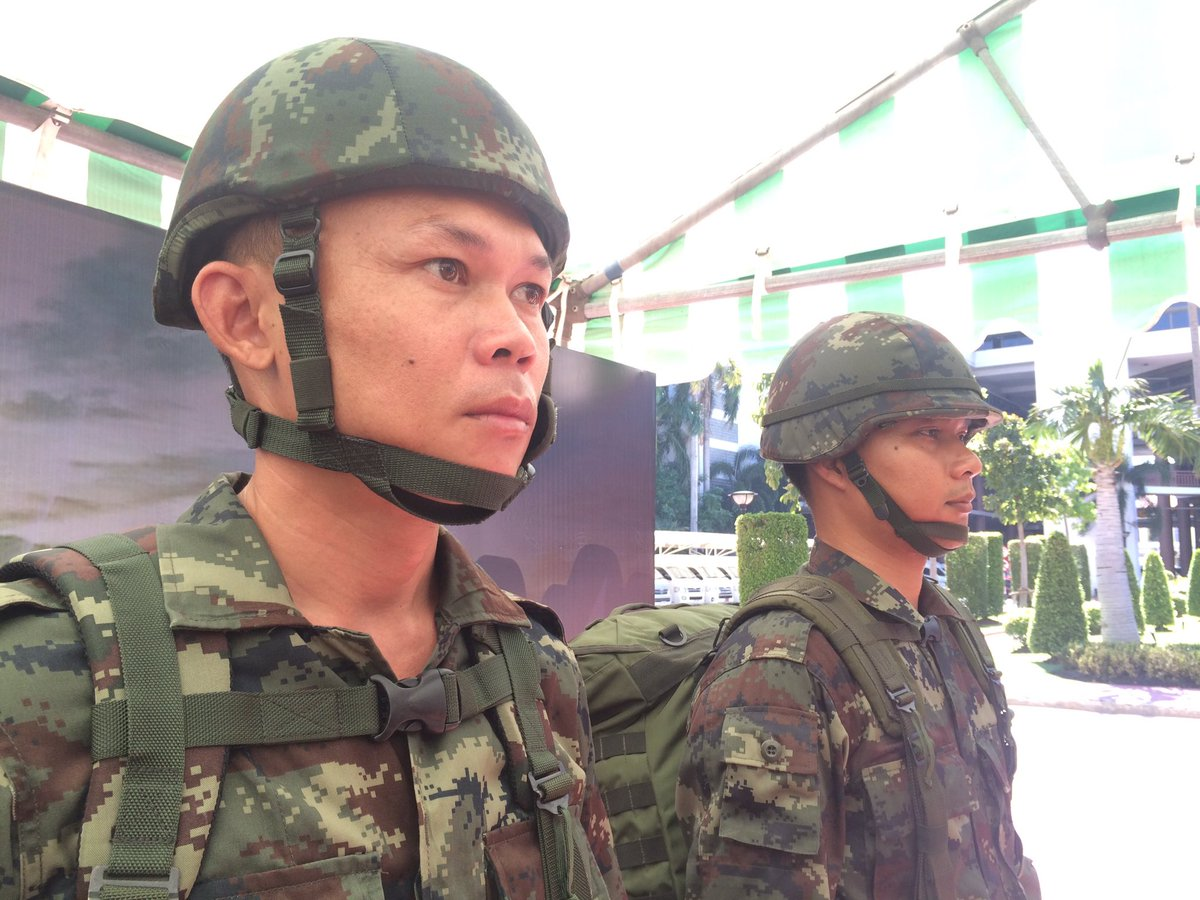Helmet: (125, 30, 581, 337), (747, 297, 998, 470)
